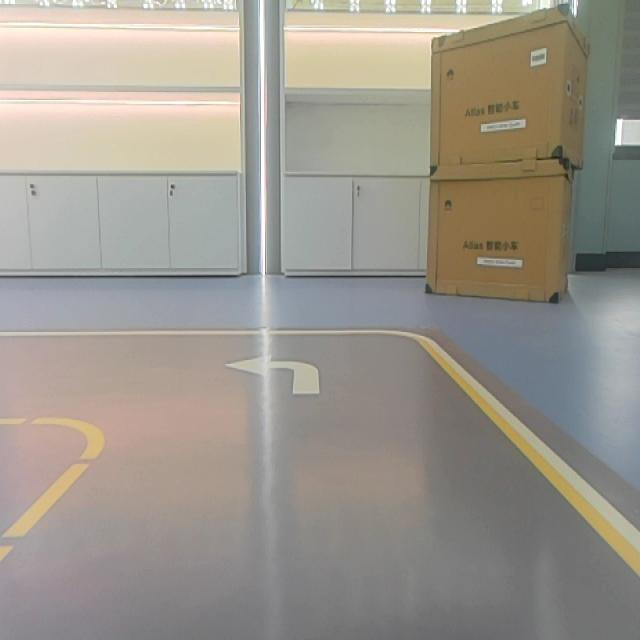left_lane: (0, 443, 103, 568)
right_lane: (426, 346, 640, 578)
